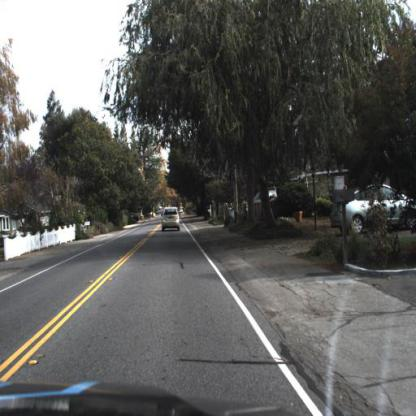car: (328, 179, 416, 243), (161, 201, 183, 235), (249, 185, 281, 205)
